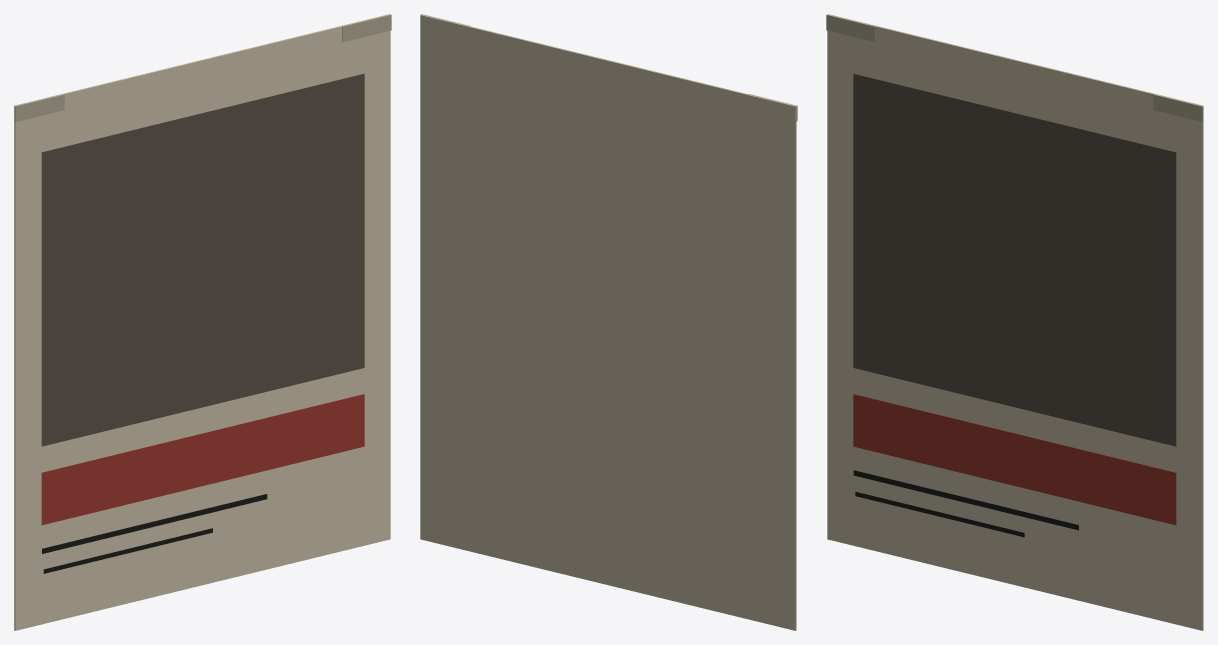
File: poster-print-3x4.glb
The picture shows the model from 3 angles, left to right: view 1: azimuth 30°, elevation 25°; view 2: azimuth 150°, elevation 25°; view 3: azimuth 330°, elevation 25°; orthographic projection.
Visible parts, largest first — view 1: fabric, paper, accent-warm, rubber, plastic-light; view 2: paper; view 3: fabric, paper, accent-warm, rubber, plastic-light.
Boxes of the visible parts, left/top/right/bottom form: fabric: left=41, top=73, right=364, bottom=446; paper: left=14, top=14, right=390, bottom=630; accent-warm: left=41, top=394, right=364, bottom=525; rubber: left=42, top=494, right=267, bottom=573; plastic-light: left=14, top=14, right=391, bottom=122; paper: left=420, top=14, right=796, bottom=630; fabric: left=853, top=73, right=1176, bottom=446; paper: left=827, top=14, right=1203, bottom=630; accent-warm: left=853, top=394, right=1176, bottom=525; rubber: left=853, top=470, right=1078, bottom=537; plastic-light: left=826, top=14, right=1203, bottom=122.
Size of the model in its own units: 0.458 by 0.61 by 0.003.
